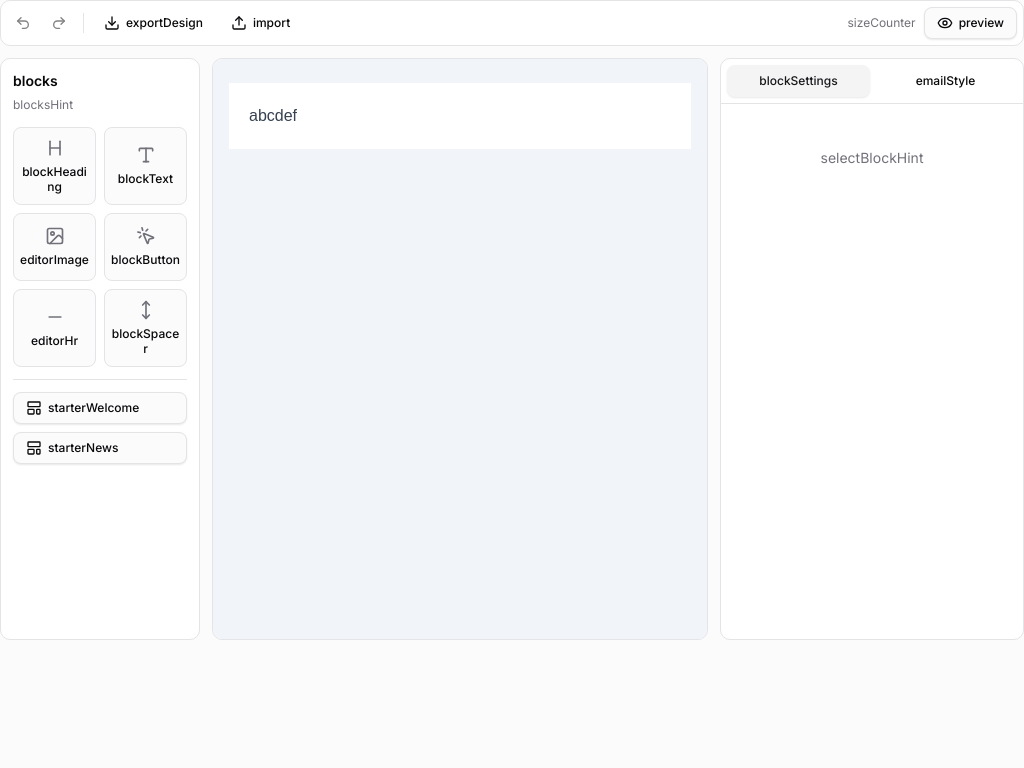
Scenario: VisualEmailEditor › insere a variável na posição do cursor do campo de texto
Click the submit button at coordinates (460, 116), box left=229, top=83, right=691, bottom=149
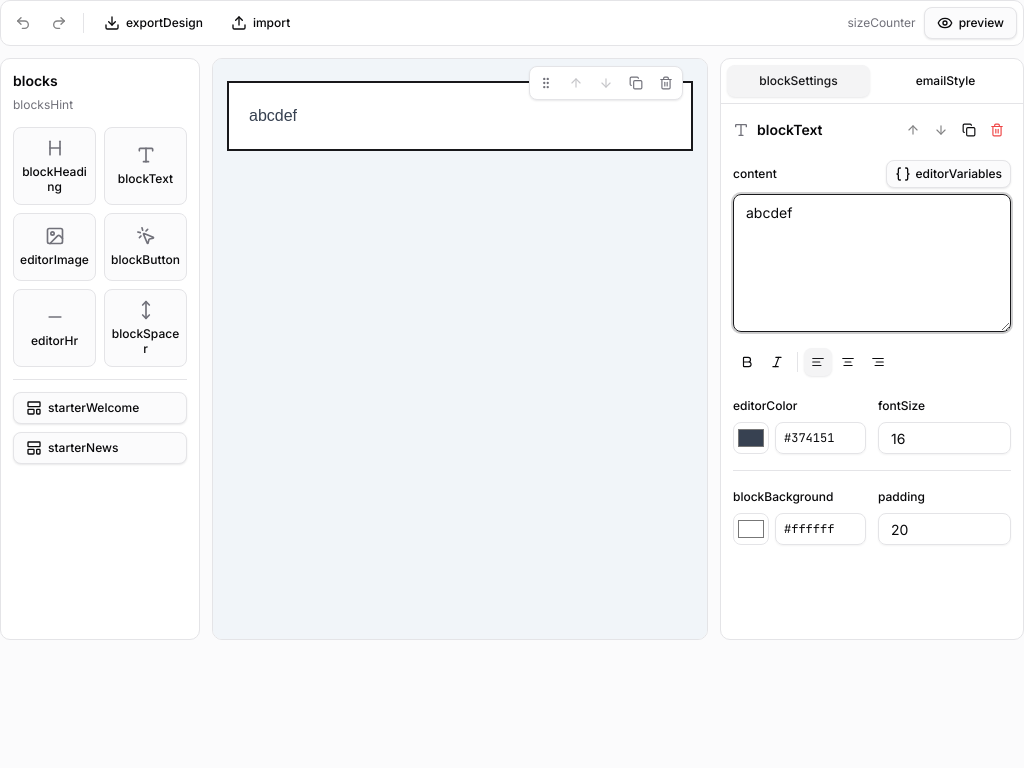
# o menu do Radix abre no pointerdown (botão principal, sem Ctrl)
Press the mouse on the submit button at coordinates (949, 174), box left=886, top=160, right=1011, bottom=188
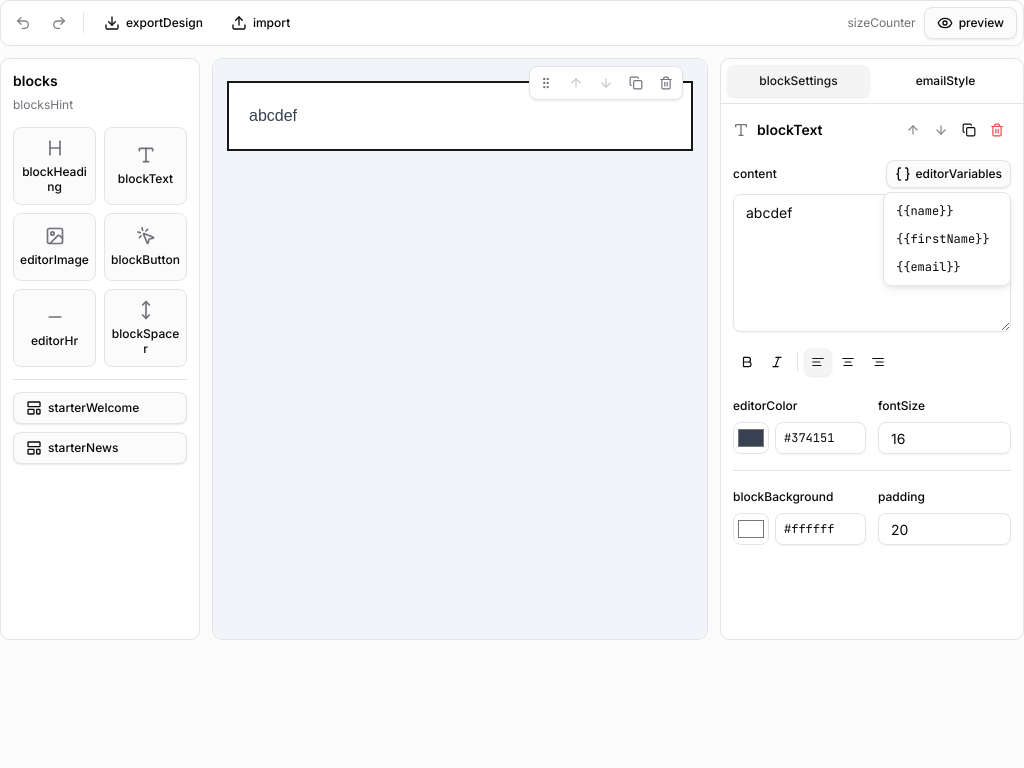
Click the menu item "{{firstName}}" at coordinates (943, 239), box left=896, top=231, right=990, bottom=247
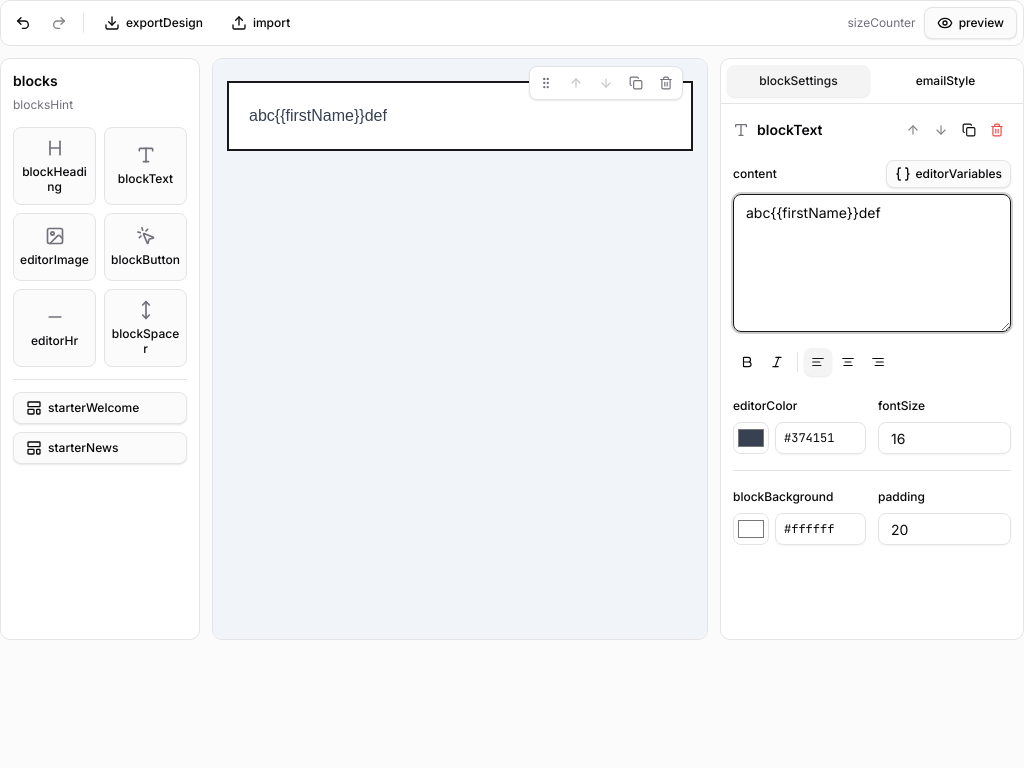
Expected: the text "abc{{firstName}}def" is shown, left=249, top=107, right=387, bottom=124
